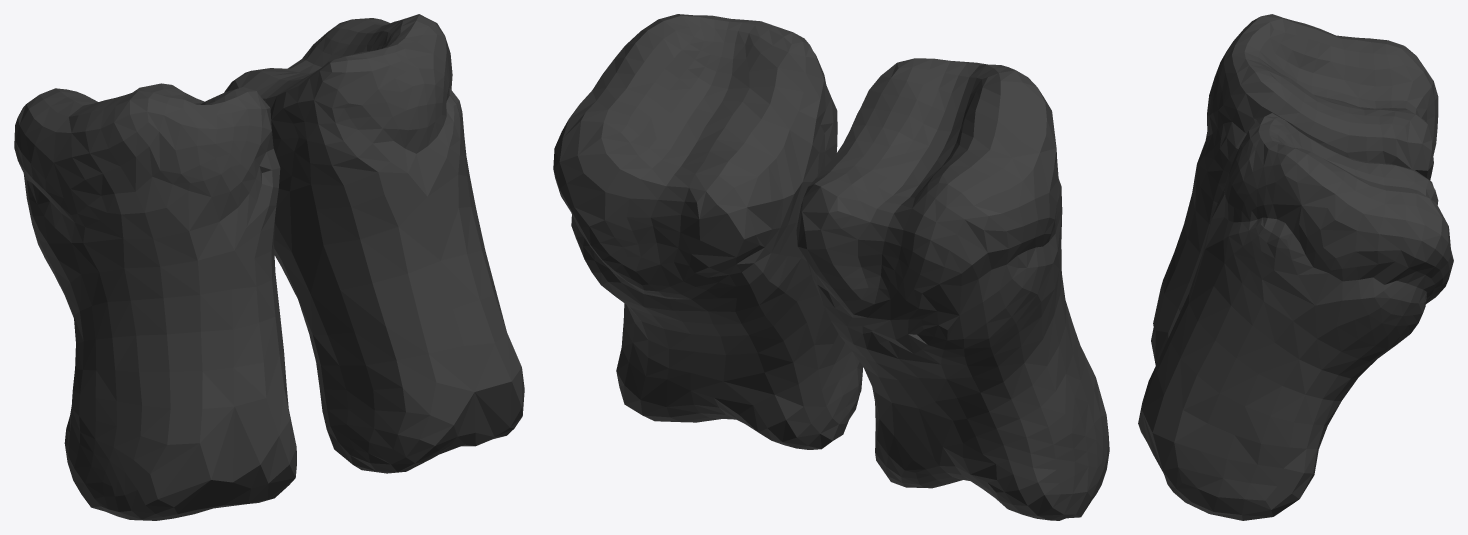
The model's file is P1s_bone_P1s_bone.glb.
The picture shows the model from 3 angles, left to right: view 1: azimuth 30°, elevation 25°; view 2: azimuth 150°, elevation 25°; view 3: azimuth 270°, elevation 25°; orthographic projection. The views are drawn at different scales.
Visible parts, largest first — view 1: P1s_bone_P1s_bone; view 2: P1s_bone_P1s_bone; view 3: P1s_bone_P1s_bone.
Boxes of the visible parts, left/top/right/bottom form: P1s_bone_P1s_bone: left=14, top=14, right=524, bottom=520; P1s_bone_P1s_bone: left=553, top=14, right=1109, bottom=520; P1s_bone_P1s_bone: left=1138, top=14, right=1453, bottom=520.
Bounding box in the file's own units: 0.1297 × 0.12 × 0.0934.
1 material, 1 textured.
